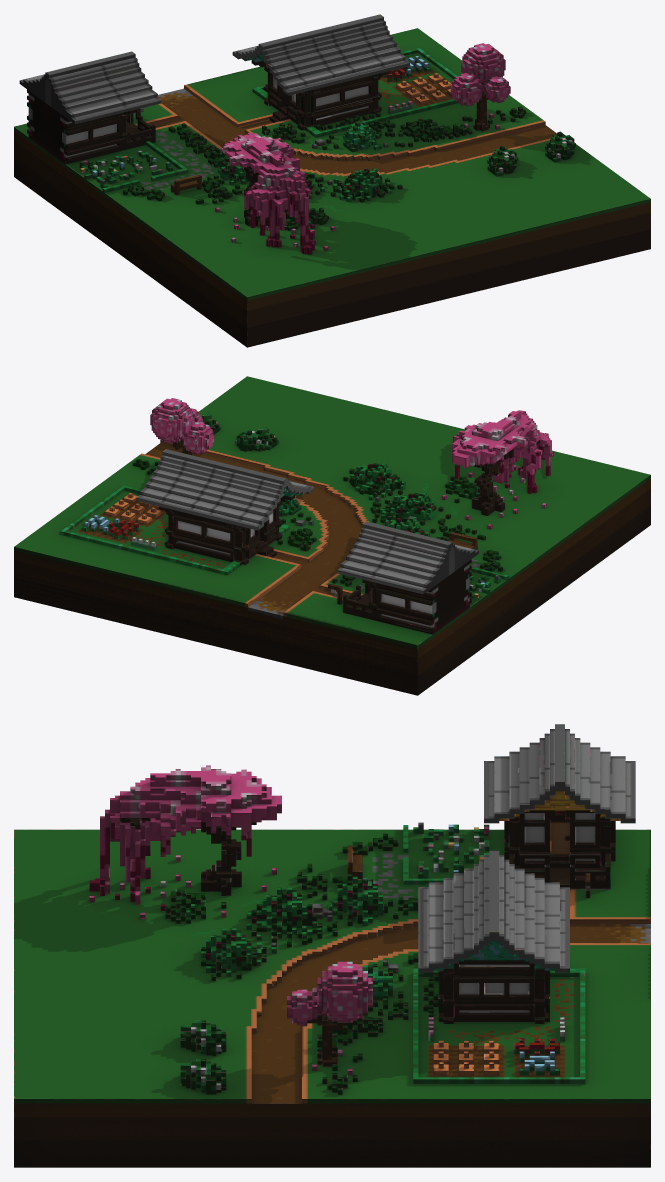
3 renders of one model, top to bottom at view 1: azimuth 30°, elevation 25°; view 2: azimuth 150°, elevation 25°; view 3: azimuth 270°, elevation 25°, orthographic. The views are drawn at different scales.
Parts seen in each view (by area): view 1: _C; view 2: _C; view 3: _C.
Part boxes in pixels (left/top/right/bottom): _C: left=14, top=14, right=650, bottom=347; _C: left=14, top=376, right=650, bottom=695; _C: left=14, top=724, right=650, bottom=1167.
Size of the model in its own units: 126 by 126 by 39.
Materials: 1 (1 with a texture image).
